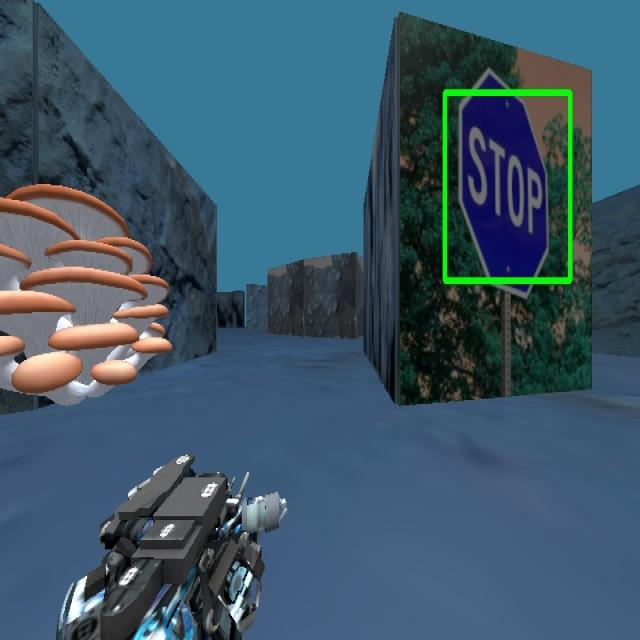Mushroom: (0, 181, 172, 402)
Stop_Sign: (441, 84, 573, 292)
